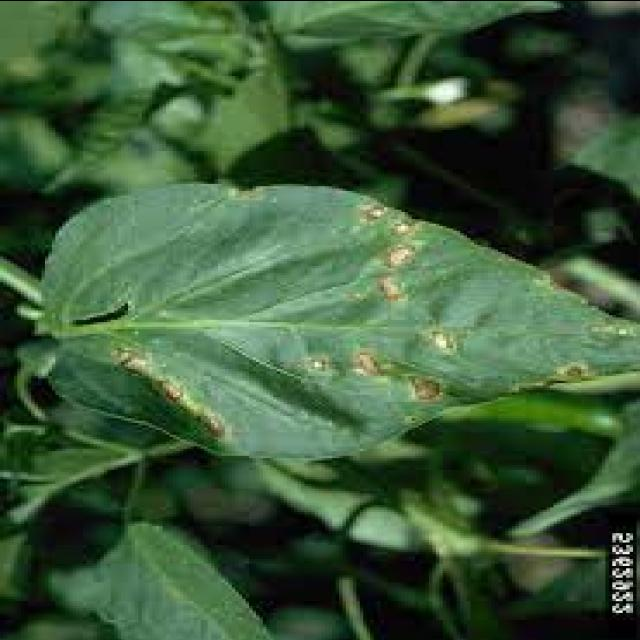bercak_daun: (30, 180, 640, 463)
